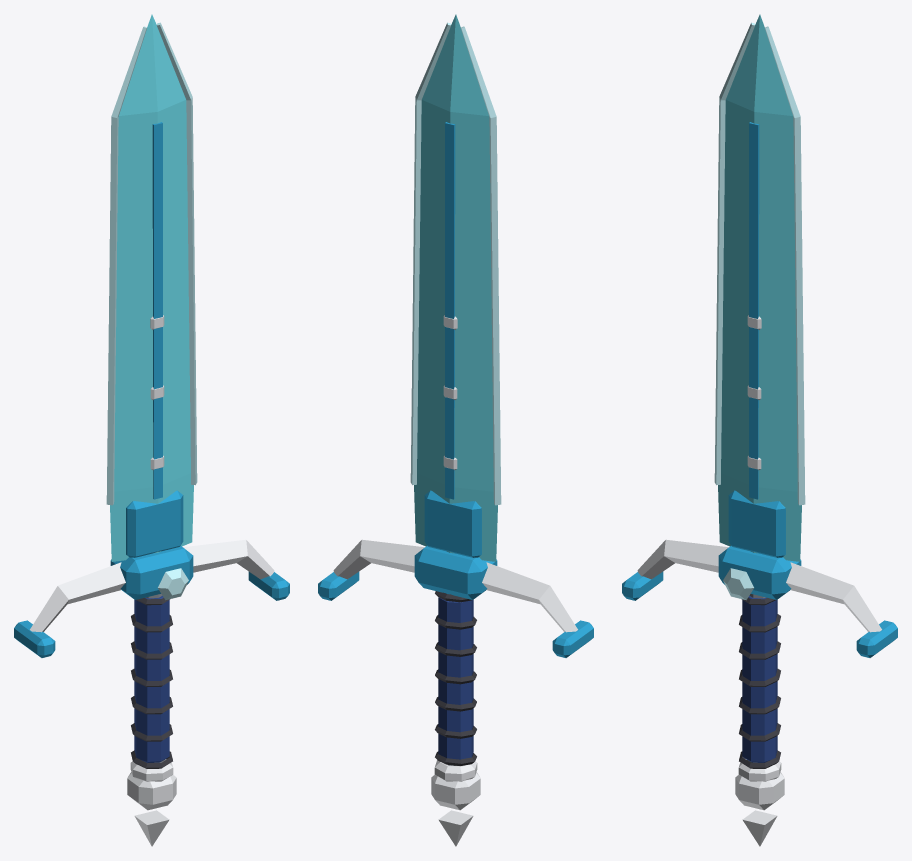
The model's file is DiamondGreatsword.fbx.
The picture shows the model from 3 angles, left to right: view 1: azimuth 30°, elevation 25°; view 2: azimuth 150°, elevation 25°; view 3: azimuth 330°, elevation 25°; orthographic projection.
Parts seen in each view (by area): view 1: DiamondGreatsword; view 2: DiamondGreatsword; view 3: DiamondGreatsword.
Boxes of the visible parts, x1,y1,x2,y2 form: DiamondGreatsword: (14,14,289,846); DiamondGreatsword: (318,14,593,846); DiamondGreatsword: (622,14,897,846).
Bounding box in the file's own units: 2.26 × 7.12 × 0.6.
1 material, 1 textured.
